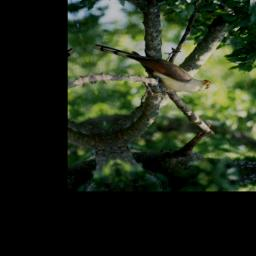Cuckoo: (90, 25, 216, 107)
